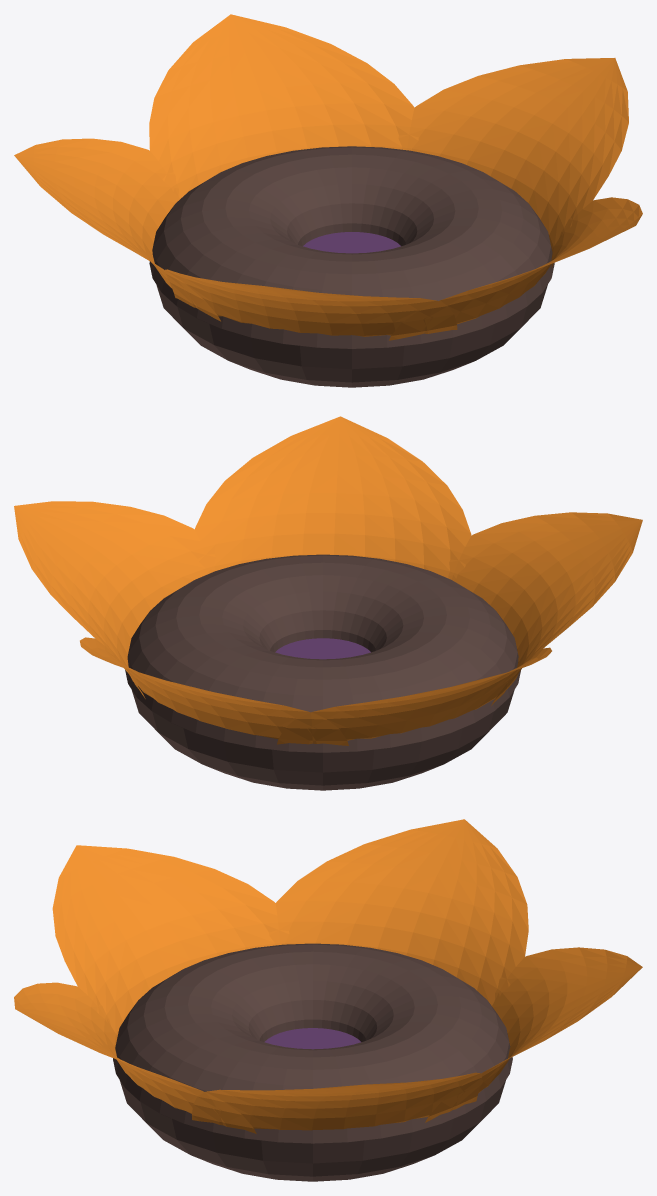
File: Fleur-Huernia.fbx
The picture shows the model from 3 angles, top to bottom: view 1: azimuth 30°, elevation 25°; view 2: azimuth 150°, elevation 25°; view 3: azimuth 270°, elevation 25°; orthographic projection. The views are drawn at different scales.
Parts seen in each view (by area): view 1: Fleur_Huernia; view 2: Fleur_Huernia; view 3: Fleur_Huernia.
Boxes of the visible parts, x1,y1,x2,y2 form: Fleur_Huernia: [14, 14, 642, 387]; Fleur_Huernia: [14, 416, 642, 790]; Fleur_Huernia: [14, 819, 642, 1181].
Size of the model in its own units: 25.15 by 8.97 by 25.15.
